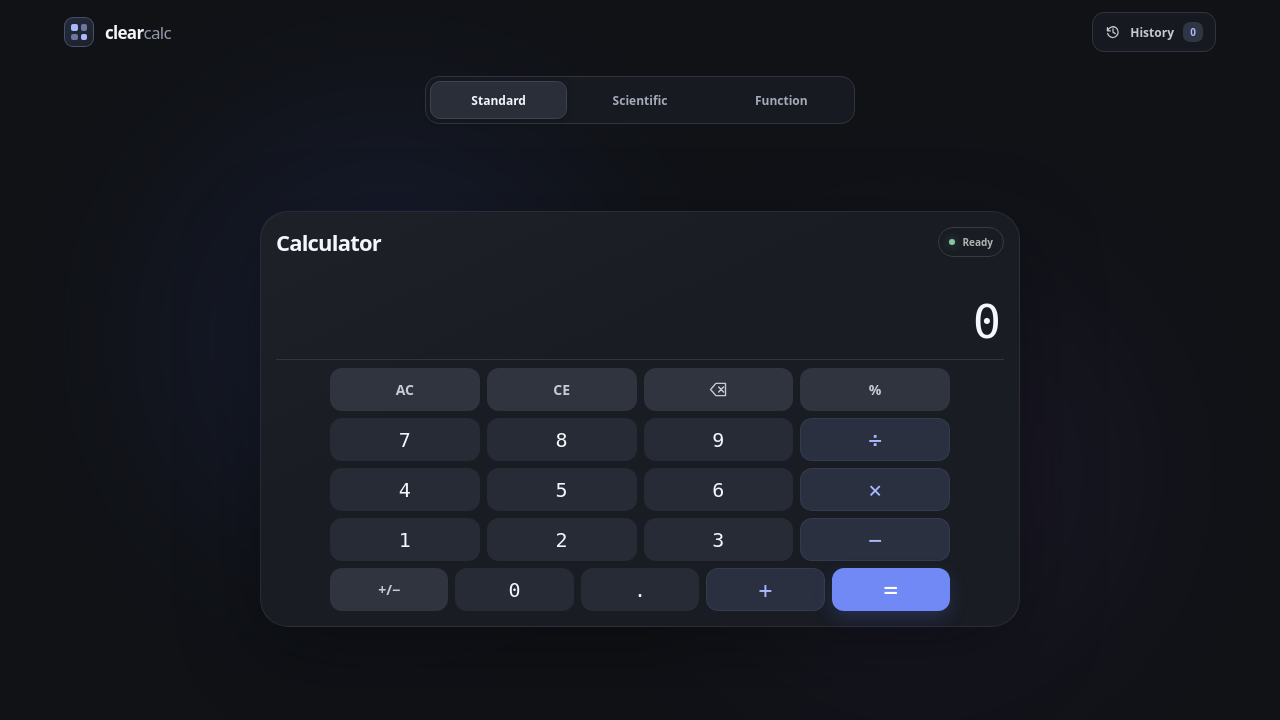
Test: Calculator › calculates a chained expression with precedence
Click the button "2". click: (562,540)
box: [487,518,637,561]
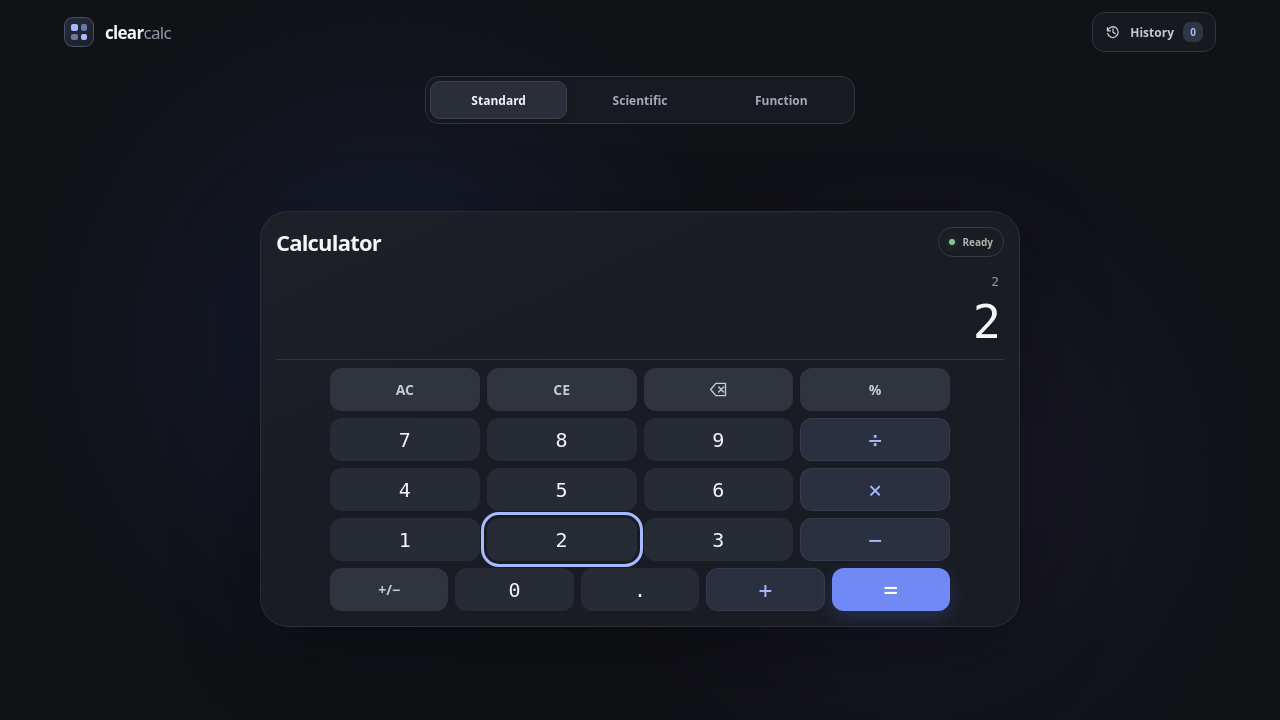
Click the button named "Add". click: (765,590)
box: [706,568,825,611]
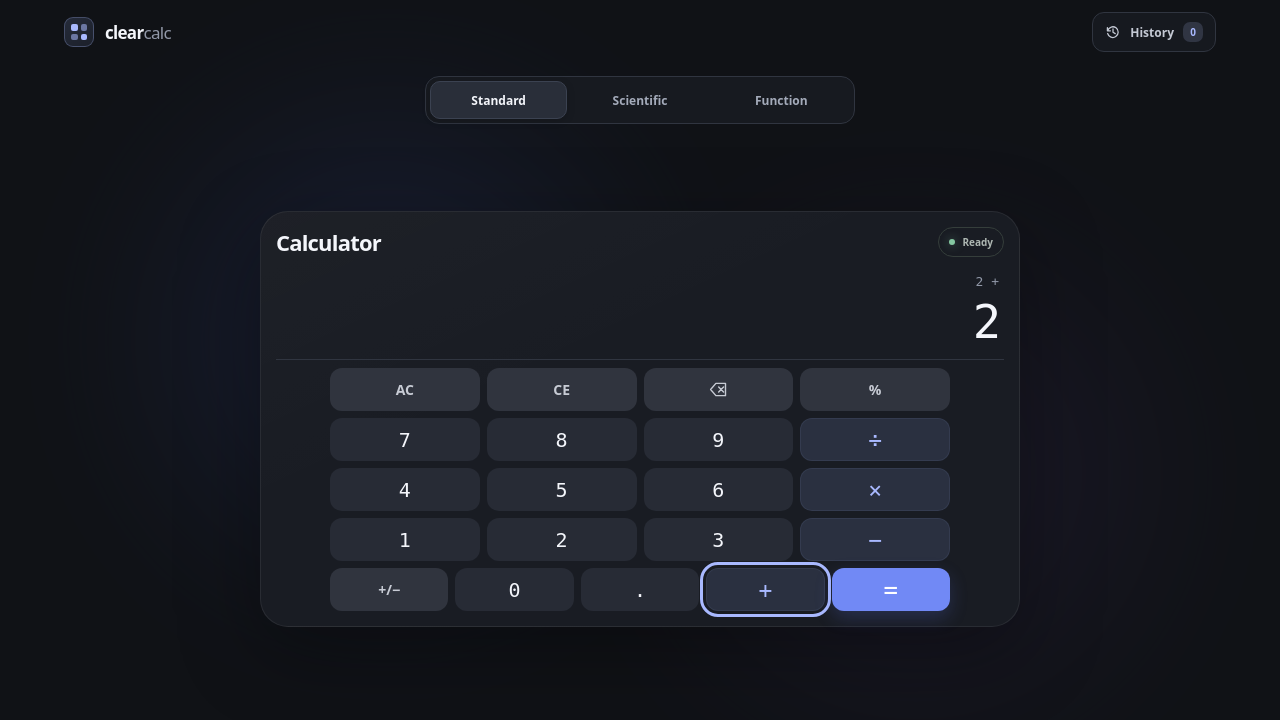
Click the button "3". click: (718,540)
box: [644,518,793,561]
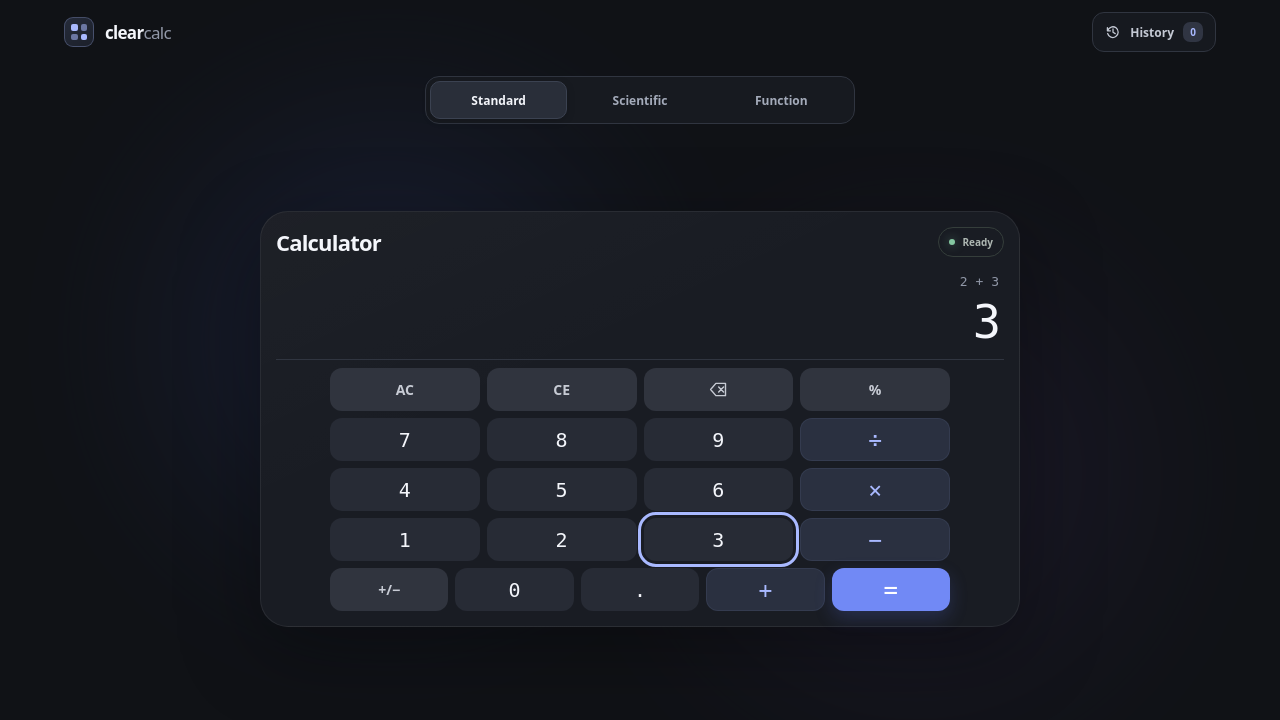
Click the button named "Multiply". click: (875,490)
box: [800,468,950,511]
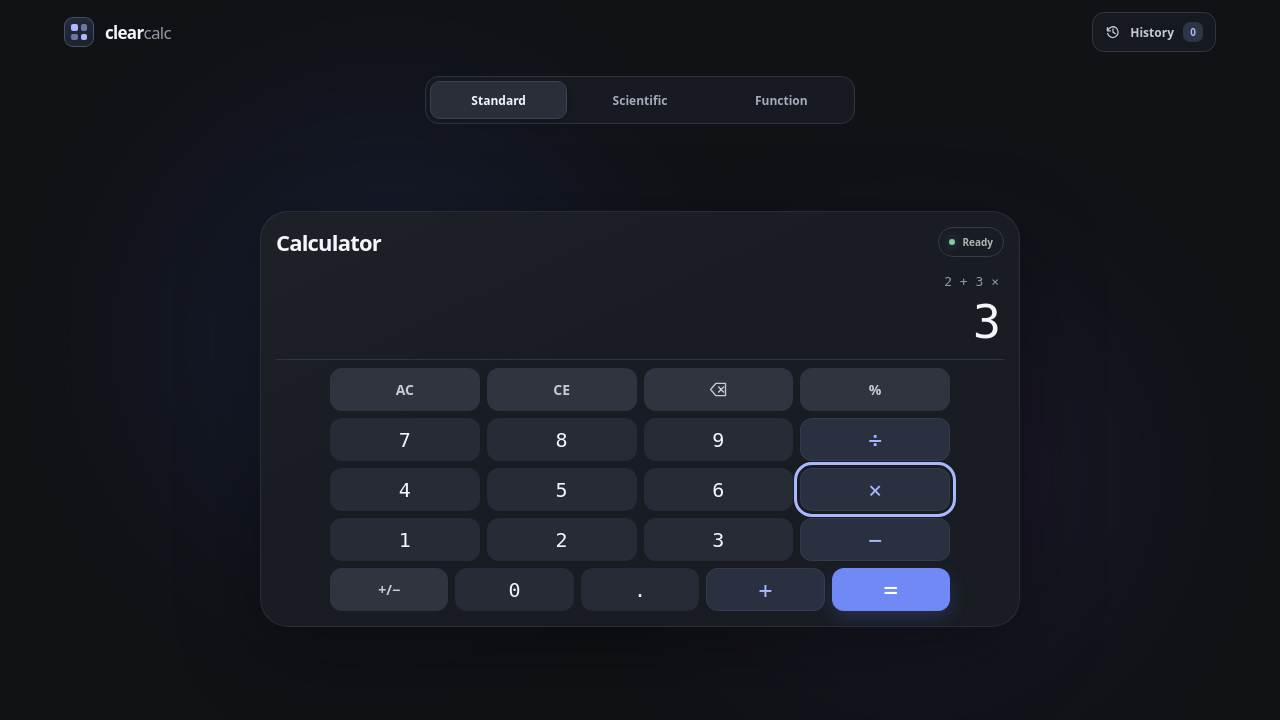
Click the button "4". click: (405,490)
box: [330,468,480,511]
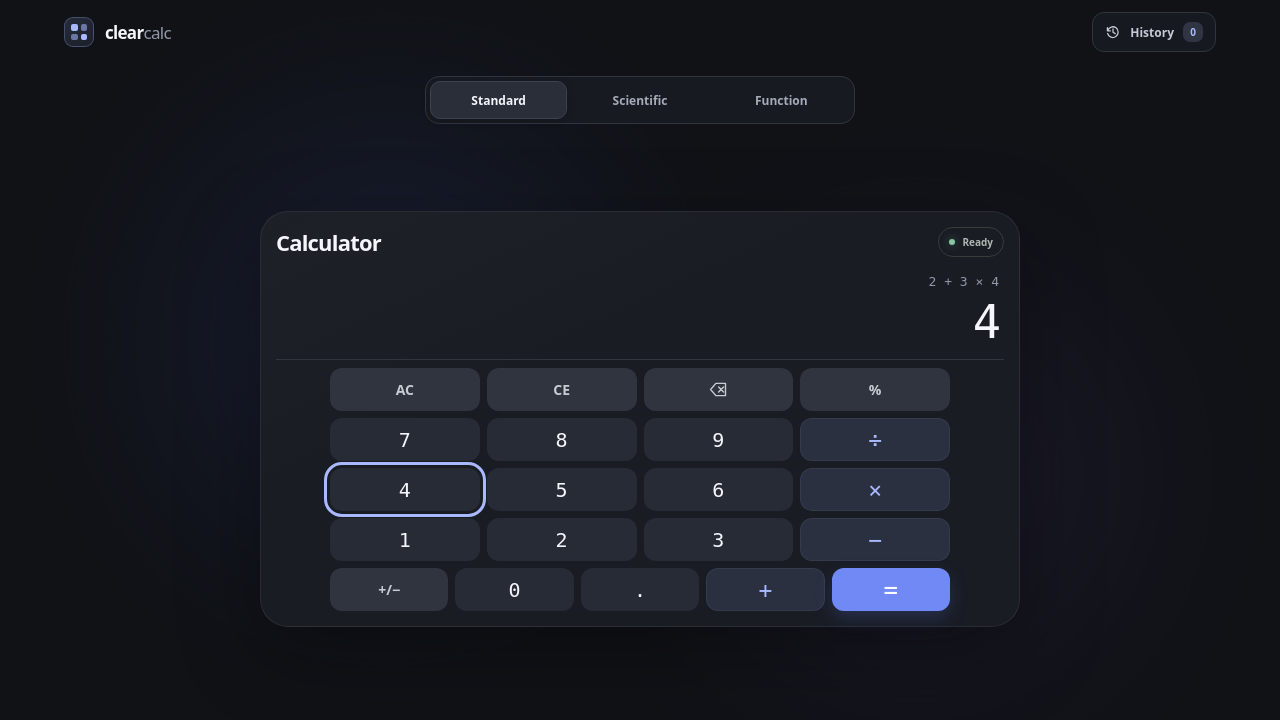
Click the button named "Equals". click: (891,590)
box: [832,568,950,611]
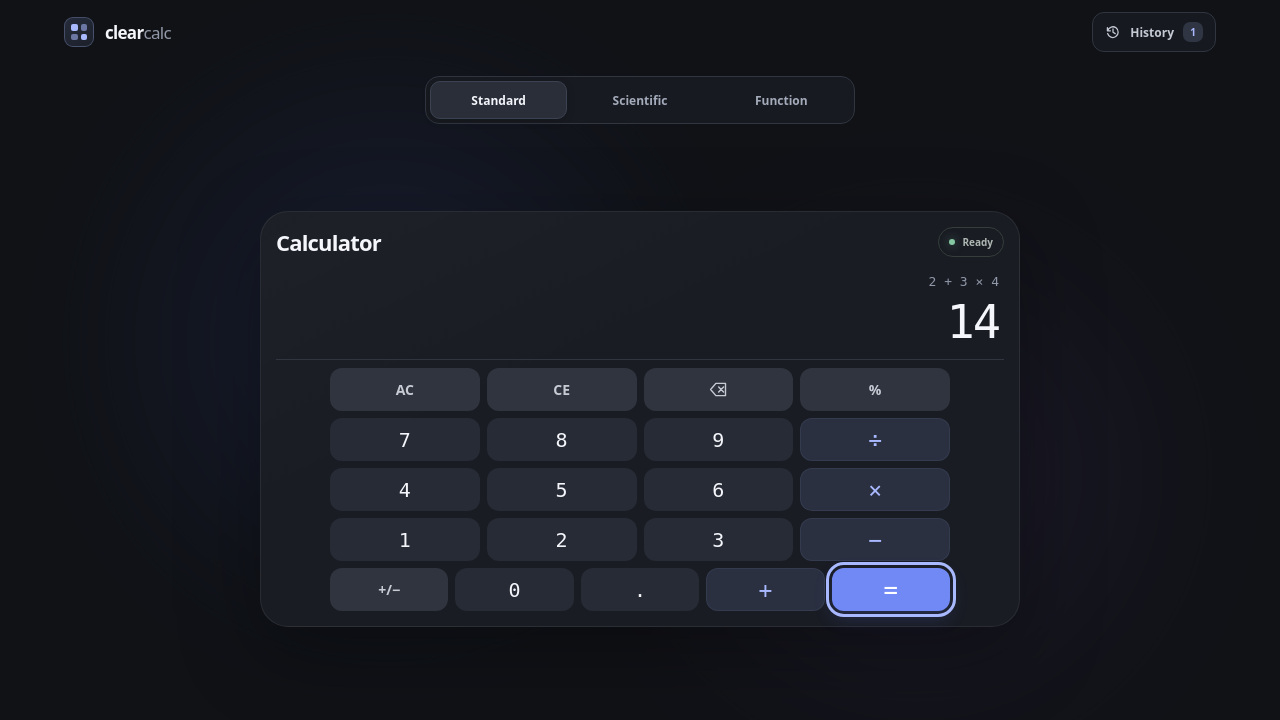
Expected: the text named "Current value" reads "14", [946,294,999,349]
